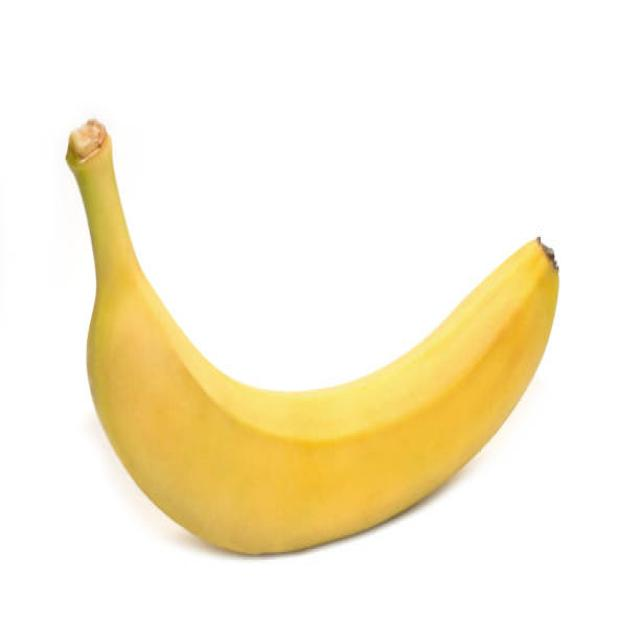Ripe: (65, 115, 562, 560)
